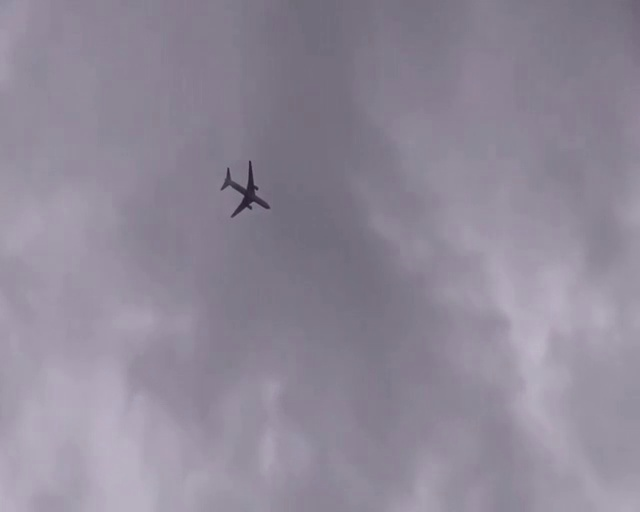AIRPLANE: (219, 160, 270, 217)
